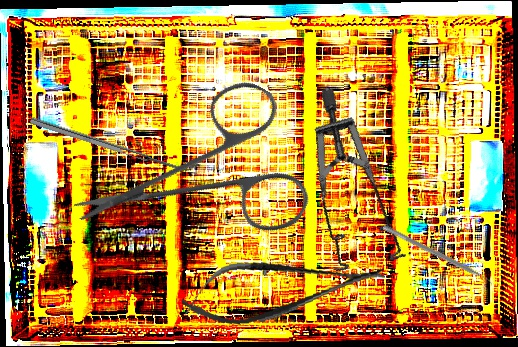Iris Scissors: (69, 35, 346, 311)
Micro Scissor: (177, 244, 390, 334)
Spatula Surgical: (29, 110, 200, 178), (379, 224, 496, 289)
Speculum: (267, 86, 451, 291)
